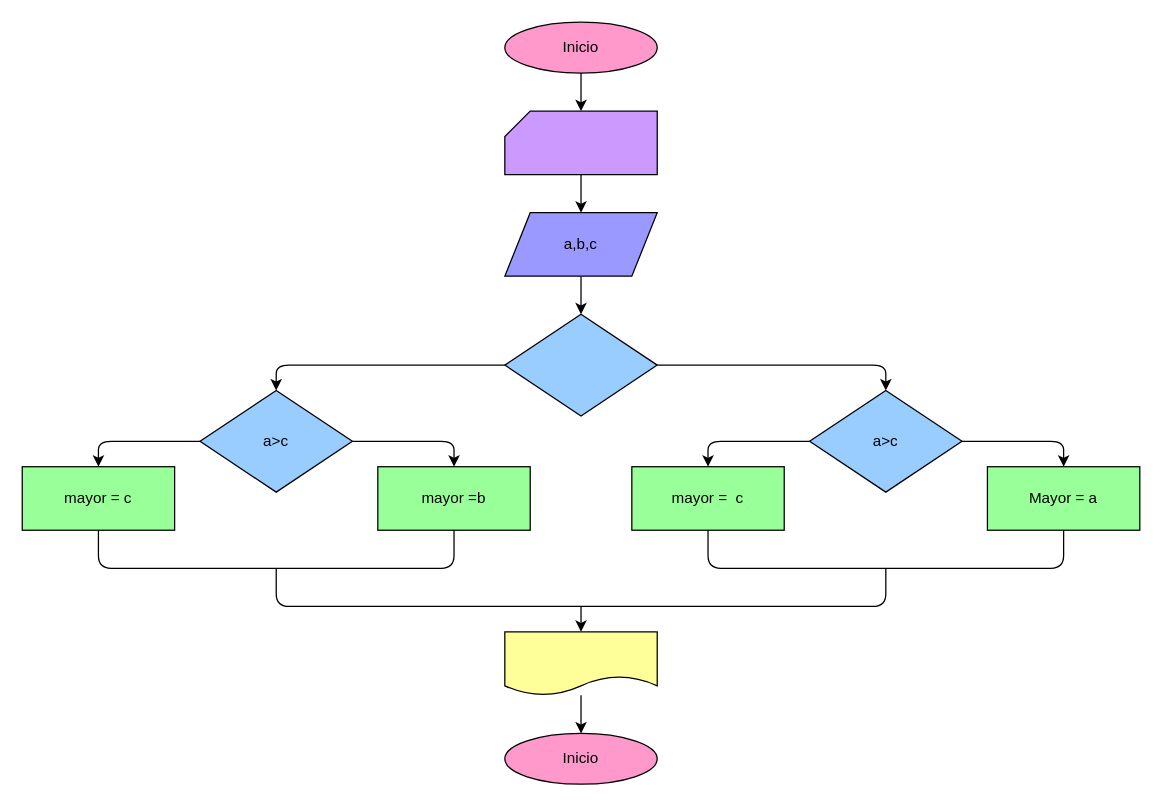
This 1162x806 diagram has some shape labels left out. The centre of each missing label's shape, as x and y in pixels:
a,b,c,mayor: (x=580, y=142)
a>b: (x=580, y=364)
mayor: (x=580, y=663)
